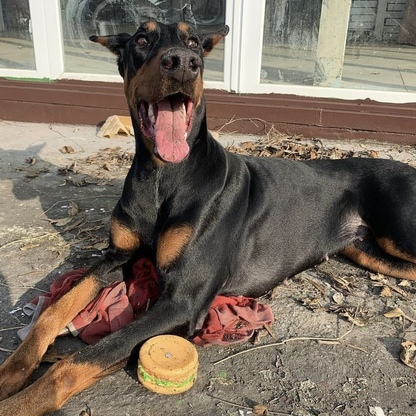doberman: (88, 13, 277, 345)
